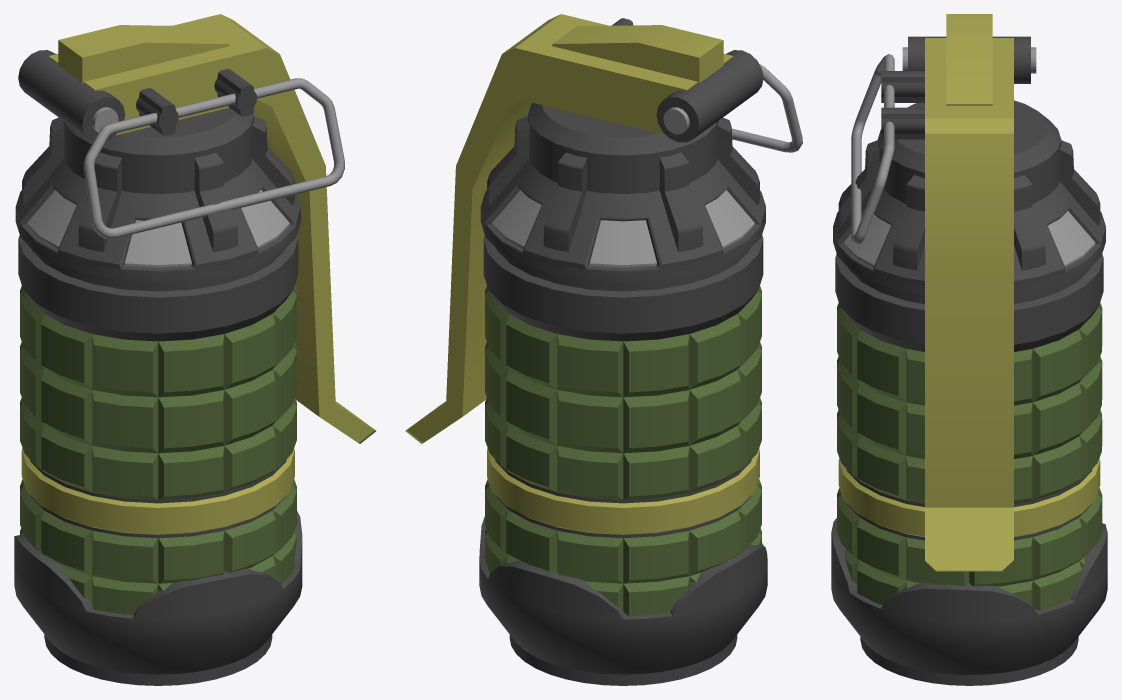
Rendered from SM_Grenade02.fbx.
The picture shows the model from 3 angles, left to right: view 1: azimuth 30°, elevation 25°; view 2: azimuth 150°, elevation 25°; view 3: azimuth 270°, elevation 25°; orthographic projection. The views are drawn at different scales.
Parts seen in each view (by area): view 1: SM_Grenade02; view 2: SM_Grenade02; view 3: SM_Grenade02.
Boxes of the visible parts, <box> form: SM_Grenade02: <box>14,14,376,685</box>; SM_Grenade02: <box>405,14,802,685</box>; SM_Grenade02: <box>831,14,1107,685</box>.
Bounding box in the file's own units: 8.74 × 15.63 × 6.69.
